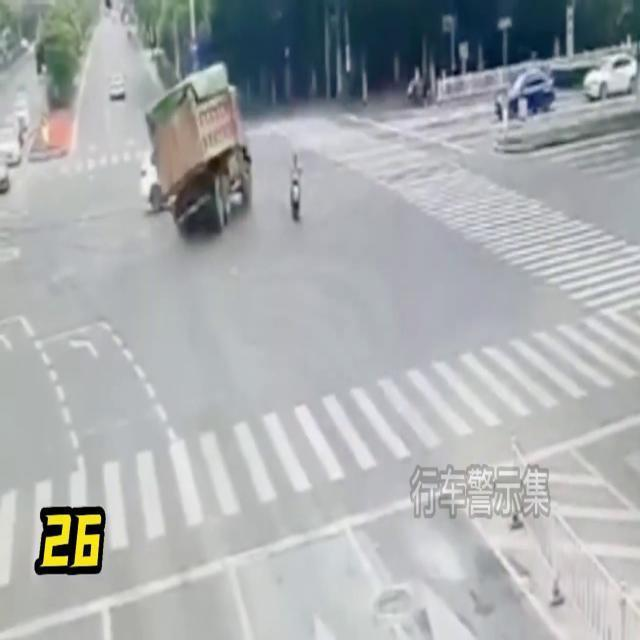accident: (138, 66, 258, 242)
non-accident: (492, 51, 640, 122), (1, 87, 32, 197)
